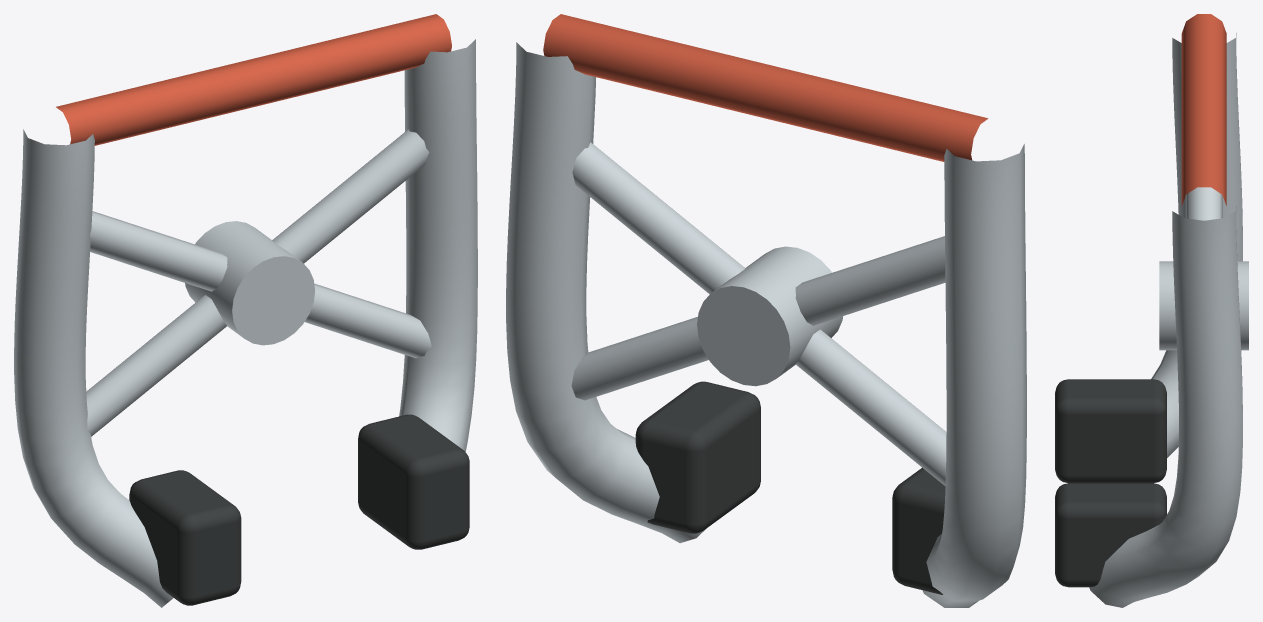
File: beekeeping-and-honey-farm-frame-grip-9fbf2e5e__30716.glb
The picture shows the model from 3 angles, left to right: view 1: azimuth 30°, elevation 25°; view 2: azimuth 150°, elevation 25°; view 3: azimuth 270°, elevation 25°; orthographic projection. The views are drawn at different scales.
Parts seen in each view (by area): view 1: frame-grip; view 2: frame-grip; view 3: frame-grip.
Part boxes in pixels (bbox=[...]): frame-grip: bbox=[14, 14, 477, 607]; frame-grip: bbox=[506, 14, 1026, 607]; frame-grip: bbox=[1055, 14, 1248, 607].
Size of the model in its own units: 0.1312 by 0.1322 by 0.052.
